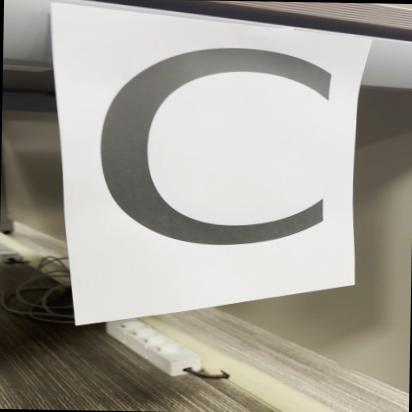seat: (64, 31, 358, 284)
